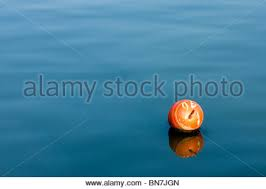buoy: (168, 100, 204, 135)
